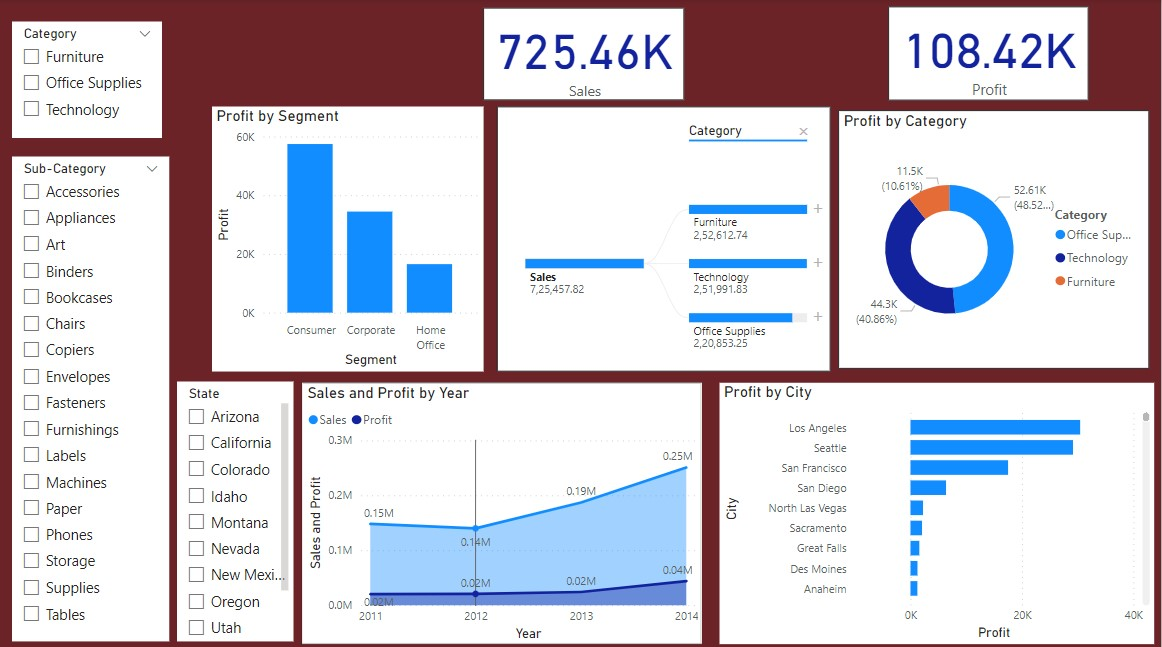

Layout of this report page (visuals, bound fields, positions):
{"tool":"powerbi","page":{"name":"Page 1","canvas":[1280,720],"ordinal":0},"visuals":[{"type":"donutChart","fields":{"Category":["Walmart.Category"],"Y":["Sum(Walmart.Profit)"]},"box":[924.3,122.2,342,284.3],"z":0},{"type":"areaChart","fields":{"Category":["Walmart.Order Date.Variation.Date Hierarchy.Year","Walmart.Order Date.Variation.Date Hierarchy.Quarter","Walmart.Order Date.Variation.Date Hierarchy.Month","Walmart.Order Date.Variation.Date Hierarchy.Day"],"Y":["Sum(Walmart.Sales)","Sum(Walmart.Profit)"]},"box":[335.1,421.6,439.5,287],"z":1000},{"type":"decompositionTreeVisual","fields":{"ExplainBy":["Walmart.Category","Walmart.Product Name","Walmart.State","Walmart.Ship Mode","Walmart.Customer Name"],"Analyze":["Sum(Walmart.Sales)"]},"box":[549.4,118.1,366.7,291.2],"z":2000},{"type":"card","fields":{"Values":["Sum(Walmart.Sales)"]},"box":[534.2,9.6,221.1,101.6],"z":4000},{"type":"card","fields":{"Values":["Sum(Walmart.Profit)"]},"box":[979.2,8.2,219.7,103],"z":5000},{"type":"slicer","fields":{"Values":["Walmart.Category"]},"box":[16.5,24.7,164.8,127.7],"z":6000},{"type":"slicer","fields":{"Values":["Walmart.Sub-Category"]},"box":[17.1,172.9,172.9,532.9],"z":7000},{"type":"clusteredColumnChart","fields":{"Y":["Sum(Walmart.Profit)"],"Category":["Walmart.Segment"]},"box":[236.2,118.1,298,291.2],"z":8000},{"type":"barChart","fields":{"Category":["Walmart.City"],"Y":["Sum(Walmart.Profit)"]},"box":[793.8,421.6,477.9,287],"z":9000},{"type":"slicer","fields":{"Values":["Walmart.State"]},"box":[197.8,420.3,127.7,285.7],"z":9001}]}

Visuals, with their boxes in screenshot pixels (x1, y1, x2, y2), scaled from the page's 1280x720 canvas onto the 1162x647 screenshot:
donutChart - Walmart.Category x Sum(Walmart.Profit): left=839, top=110, right=1150, bottom=365
areaChart - Walmart.Order Date.Variation.Date Hierarchy.Year x Walmart.Order Date.Variation.Date Hierarchy.Quarter: left=304, top=379, right=703, bottom=637
decompositionTreeVisual - Walmart.Category x Walmart.Product Name: left=499, top=106, right=832, bottom=368
card - Sum(Walmart.Sales): left=485, top=9, right=686, bottom=100
card - Sum(Walmart.Profit): left=889, top=7, right=1088, bottom=100
slicer - Walmart.Category: left=15, top=22, right=165, bottom=137
slicer - Walmart.Sub-Category: left=16, top=155, right=172, bottom=634
clusteredColumnChart - Sum(Walmart.Profit) x Walmart.Segment: left=214, top=106, right=485, bottom=368
barChart - Walmart.City x Sum(Walmart.Profit): left=721, top=379, right=1154, bottom=637
slicer - Walmart.State: left=180, top=378, right=295, bottom=634
